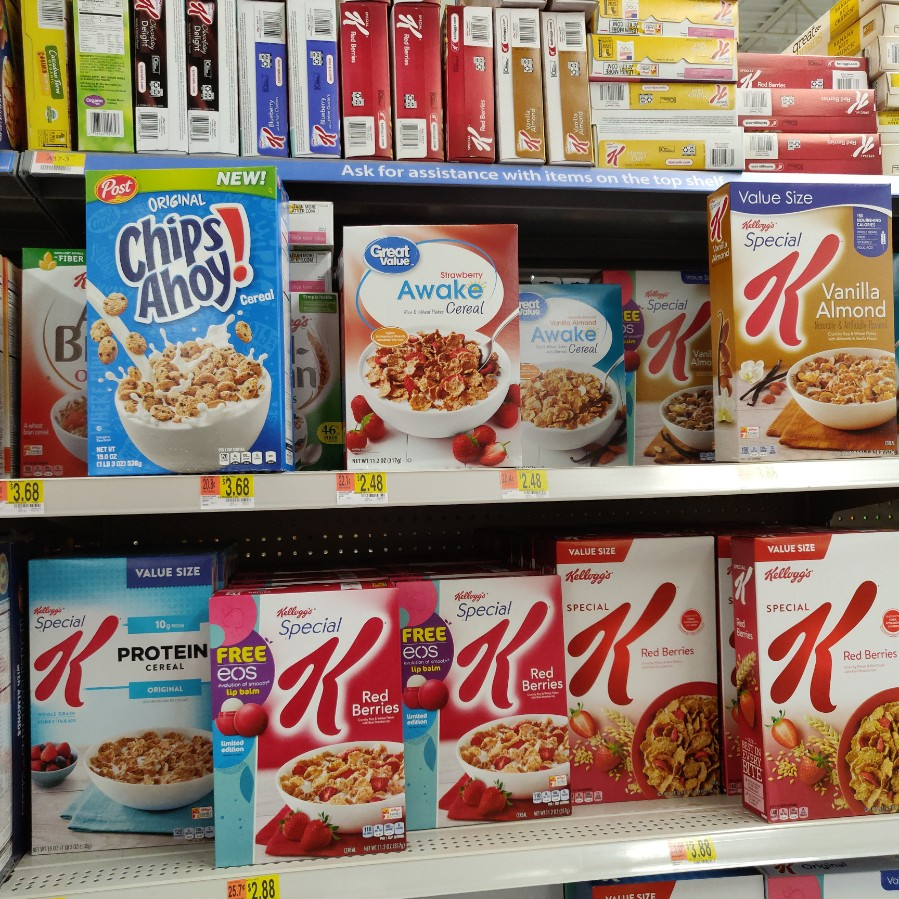Chips Ahoys-565717529: (82, 169, 292, 472)
